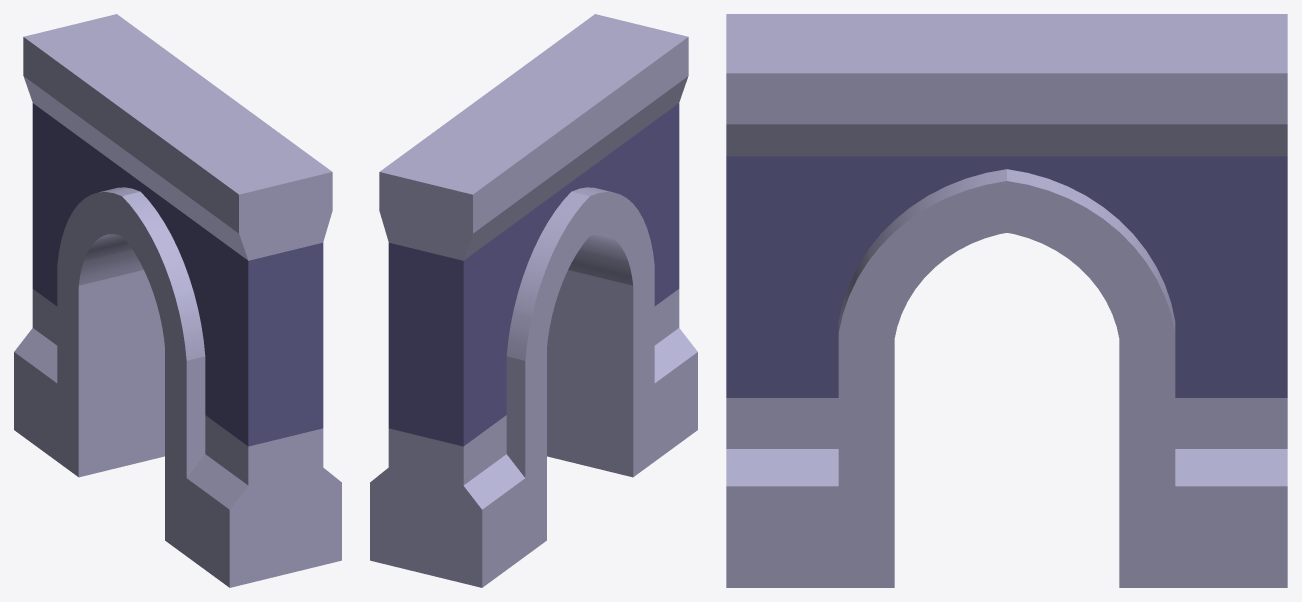
The model's file is wall_gate.glb.
3 renders of one model, left to right at view 1: azimuth 30°, elevation 25°; view 2: azimuth 150°, elevation 25°; view 3: azimuth 270°, elevation 25°, orthographic. The views are drawn at different scales.
Parts seen in each view (by area): view 1: wall_gate; view 2: wall_gate; view 3: wall_gate.
Part boxes in pixels (<box>): wall_gate: <box>14,14,341,587</box>; wall_gate: <box>370,14,697,587</box>; wall_gate: <box>726,14,1287,587</box>.
Bounding box in the file's own units: 0.3 × 1 × 1.
